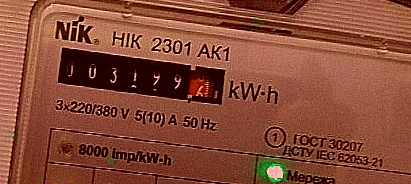0: (61, 57, 75, 79), (84, 59, 98, 80)
1: (128, 63, 140, 83)
3: (106, 64, 118, 84)
6: (194, 81, 205, 98)
9: (169, 70, 182, 90), (149, 66, 161, 87)
screen: (48, 42, 235, 113)
